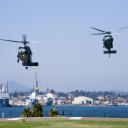helicopter: (3, 29, 60, 72), (88, 25, 128, 57)
